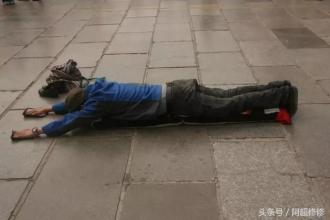fall: (20, 61, 302, 140)
